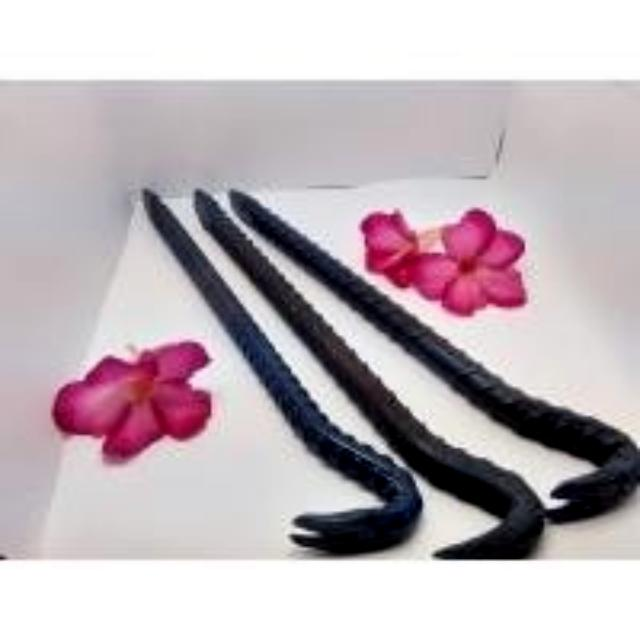crow bar: (237, 193, 640, 525), (201, 199, 548, 563), (144, 196, 428, 556)
